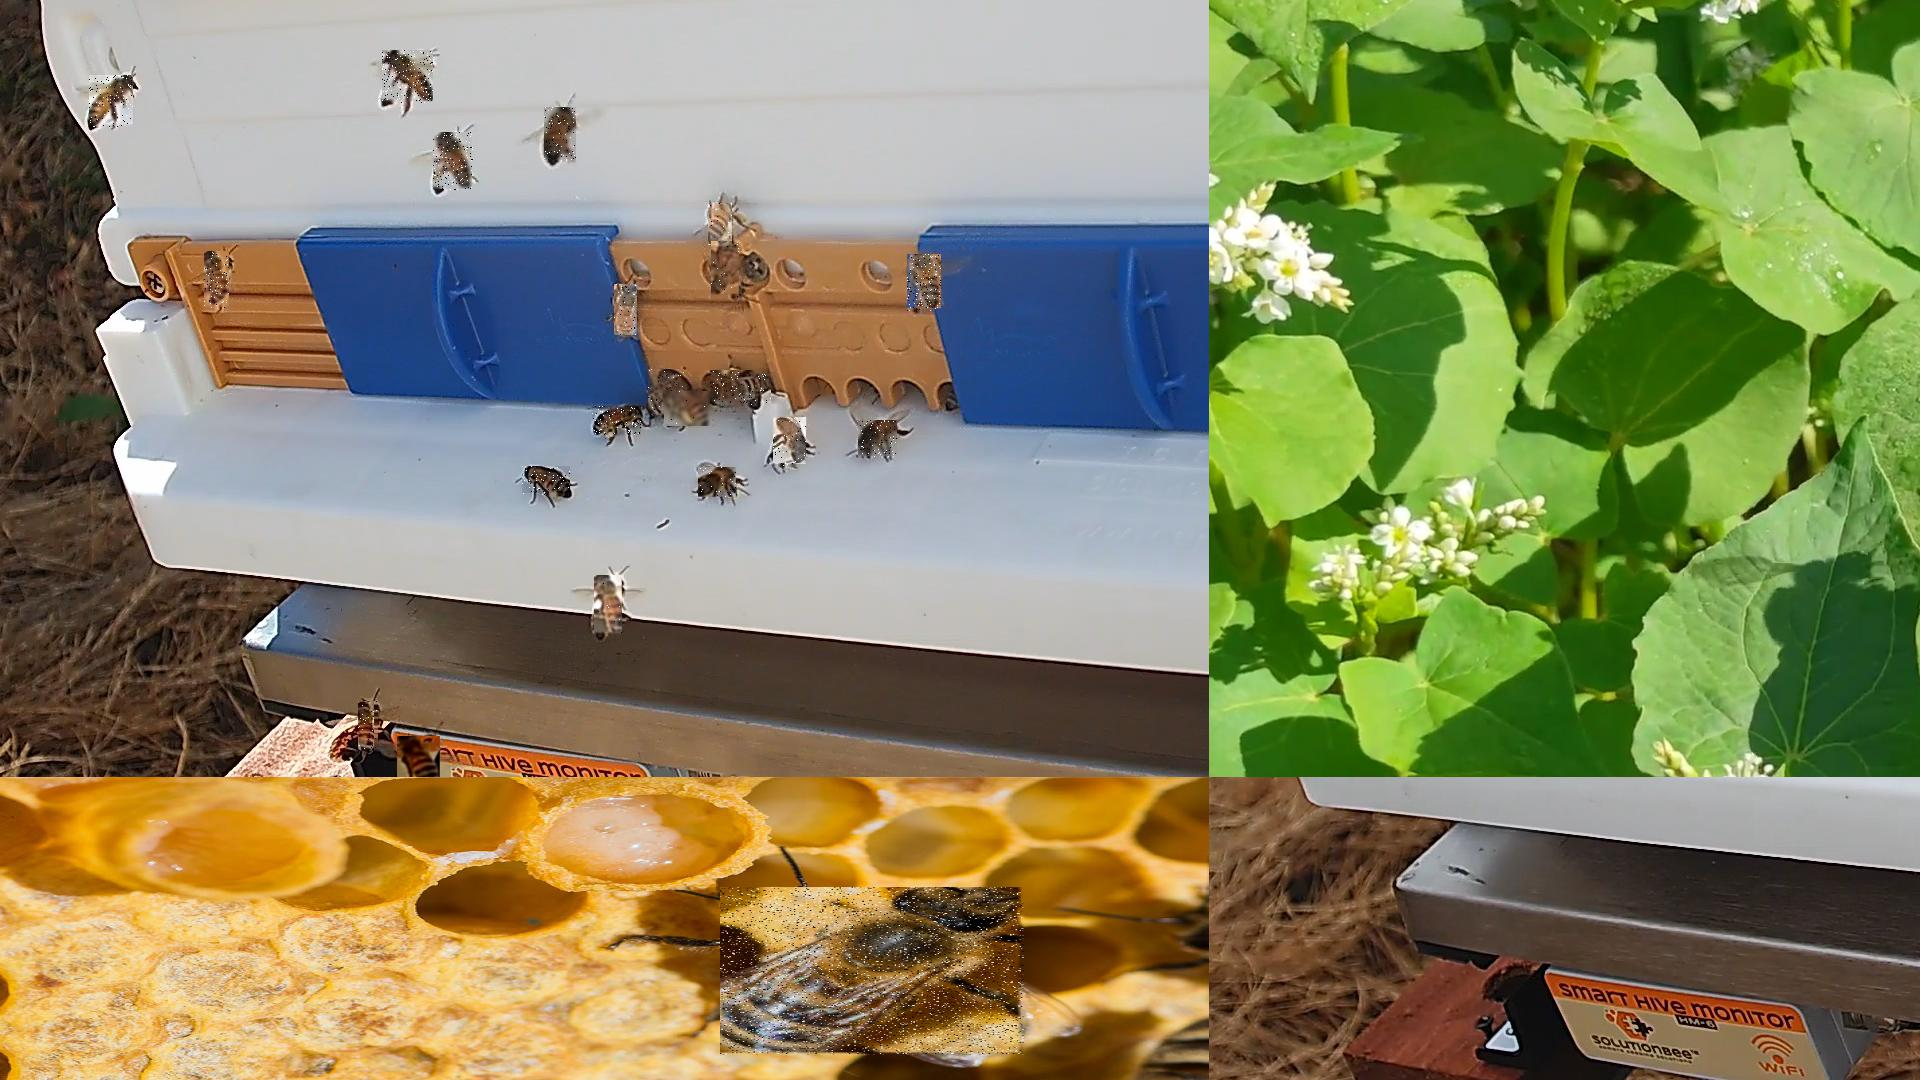bee: (721, 887, 1026, 1055), (382, 50, 434, 104), (90, 76, 135, 129), (907, 255, 943, 313), (545, 108, 578, 164), (397, 736, 442, 775), (595, 576, 624, 637), (773, 418, 807, 468), (649, 369, 686, 413), (711, 245, 740, 299), (204, 252, 231, 310), (858, 421, 898, 459), (522, 467, 571, 497), (615, 284, 638, 336), (699, 467, 737, 498), (708, 204, 733, 249), (359, 702, 378, 752), (744, 375, 773, 407)
pollenbee: (434, 133, 475, 191), (665, 392, 713, 427), (711, 371, 757, 405), (592, 406, 642, 436)
